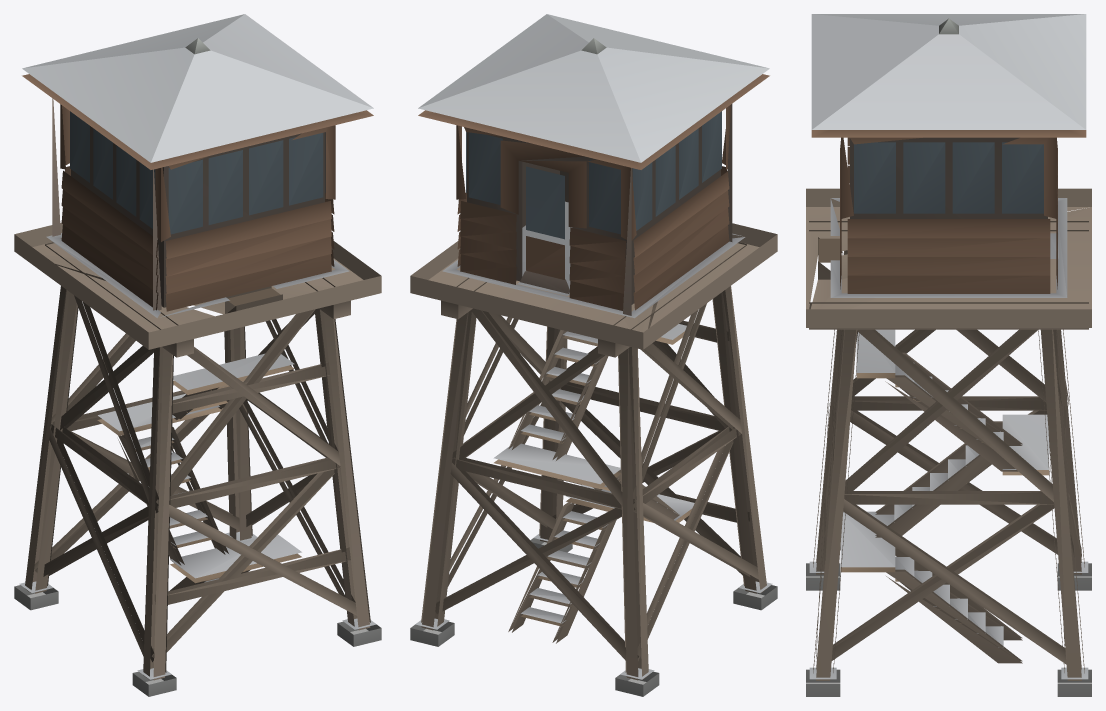
File: lookout.lod.glb
3 views of the same model, side by side, from view 1: azimuth 30°, elevation 25°; view 2: azimuth 150°, elevation 25°; view 3: azimuth 270°, elevation 25° (orthographic). The views are drawn at different scales.
Parts seen in each view (by area): view 1: lookout; view 2: lookout; view 3: lookout.
Part boxes in pixels (x1,y1,x2,y2): lookout: (14,14,381,696); lookout: (410,14,777,696); lookout: (806,14,1091,696).
Size of the model in its own units: 5.2 by 12.41 by 5.2.
